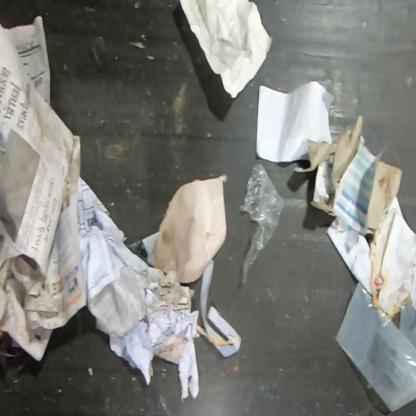cardboard: (294, 115, 403, 236), (152, 174, 228, 284)
soft_plastic: (333, 280, 415, 414), (238, 162, 286, 285)
